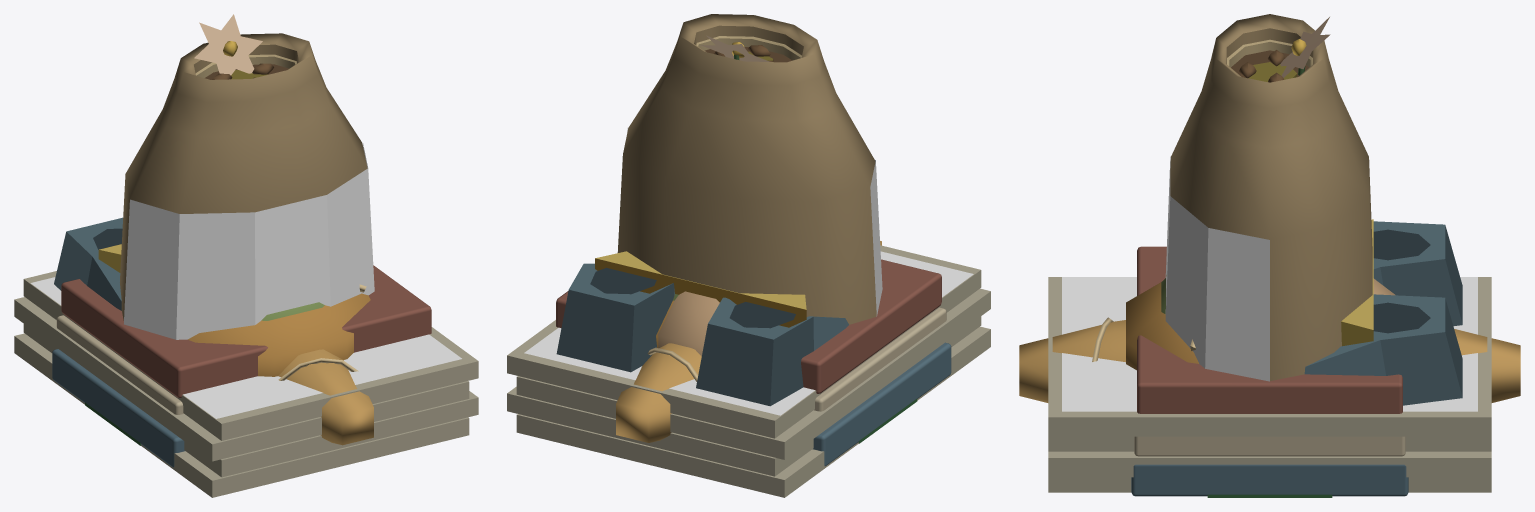
The model's file is goods.glb.
3 renders of one model, left to right at view 1: azimuth 30°, elevation 25°; view 2: azimuth 150°, elevation 25°; view 3: azimuth 270°, elevation 25°, orthographic. The views are drawn at different scales.
Parts seen in each view (by area): view 1: goods_coffee_sack-0, goods_coffee_sack-1, goods_newspaper-0, goods_fabric_stack-0, goods_newspaper-1, goods_round_loaf-0, goods_baguette-0, goods_shoe_pair-0, goods_flower_bunch-0, goods_rice_sack-0; view 2: goods_coffee_sack-0, goods_newspaper-0, goods_shoe_pair-0, goods_fabric_stack-0, goods_baguette-0, goods_newspaper-1, goods_cheese_wedge-0, goods_chicken-0, goods_coffee_sack-1, goods_rice_sack-0, goods_flower_bunch-0; view 3: goods_coffee_sack-0, goods_fabric_stack-0, goods_newspaper-0, goods_shoe_pair-0, goods_coffee_sack-1, goods_newspaper-1, goods_baguette-0, goods_round_loaf-0, goods_cheese_wedge-0, goods_flower_bunch-0, goods_rice_sack-0, goods_oil_bottle-0.
Boxes of the visible parts, left/top/right/bottom form: goods_coffee_sack-0: left=120, top=33, right=367, bottom=320; goods_coffee_sack-1: left=124, top=143, right=374, bottom=339; goods_newspaper-0: left=14, top=271, right=478, bottom=497; goods_fabric_stack-0: left=52, top=265, right=431, bottom=467; goods_newspaper-1: left=31, top=277, right=461, bottom=418; goods_round_loaf-0: left=188, top=284, right=370, bottom=376; goods_baguette-0: left=278, top=349, right=373, bottom=445; goods_shoe_pair-0: left=54, top=217, right=122, bottom=310; goods_flower_bunch-0: left=194, top=14, right=262, bottom=75; goods_rice_sack-0: left=195, top=54, right=296, bottom=77; goods_coffee_sack-0: left=617, top=14, right=876, bottom=324; goods_newspaper-0: left=507, top=245, right=990, bottom=497; goods_shoe_pair-0: left=556, top=263, right=848, bottom=406; goods_fabric_stack-0: left=556, top=259, right=951, bottom=466; goods_baguette-0: left=616, top=241, right=881, bottom=442; goods_newspaper-1: left=524, top=251, right=973, bottom=415; goods_cheese_wedge-0: left=595, top=251, right=806, bottom=327; goods_chicken-0: left=658, top=291, right=719, bottom=356; goods_coffee_sack-1: left=627, top=127, right=882, bottom=316; goods_rice_sack-0: left=696, top=36, right=801, bottom=60; goods_flower_bunch-0: left=700, top=35, right=769, bottom=61; goods_coffee_sack-0: left=1170, top=14, right=1372, bottom=380; goods_fabric_stack-0: left=1131, top=246, right=1408, bottom=496; goods_newspaper-0: left=1048, top=277, right=1491, bottom=492; goods_shoe_pair-0: left=1304, top=221, right=1462, bottom=405; goods_coffee_sack-1: left=1165, top=156, right=1269, bottom=381; goods_newspaper-1: left=1062, top=277, right=1477, bottom=411; goods_baguette-0: left=1019, top=317, right=1520, bottom=402; goods_round_loaf-0: left=1126, top=282, right=1198, bottom=370; goods_cheese_wedge-0: left=1166, top=219, right=1373, bottom=346; goods_flower_bunch-0: left=1280, top=17, right=1330, bottom=77; goods_rice_sack-0: left=1227, top=39, right=1312, bottom=67; goods_oil_bottle-0: left=1248, top=62, right=1297, bottom=81.
Size of what is drawn, in the model's own units: 0.25 by 0.3172 by 0.3618.
